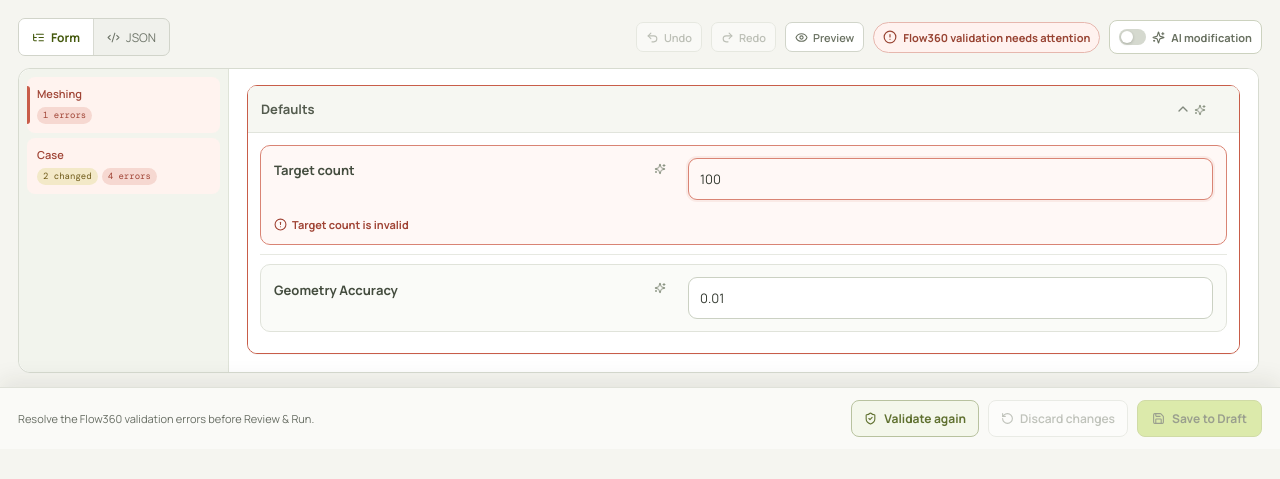
Scenario: Draft parameter validation navigation › keeps validation repair mutation-capable and marks the request autonomous
Click the checkbox labelled "AI modification".
click(1186, 37)  # box [1109, 20, 1262, 54]
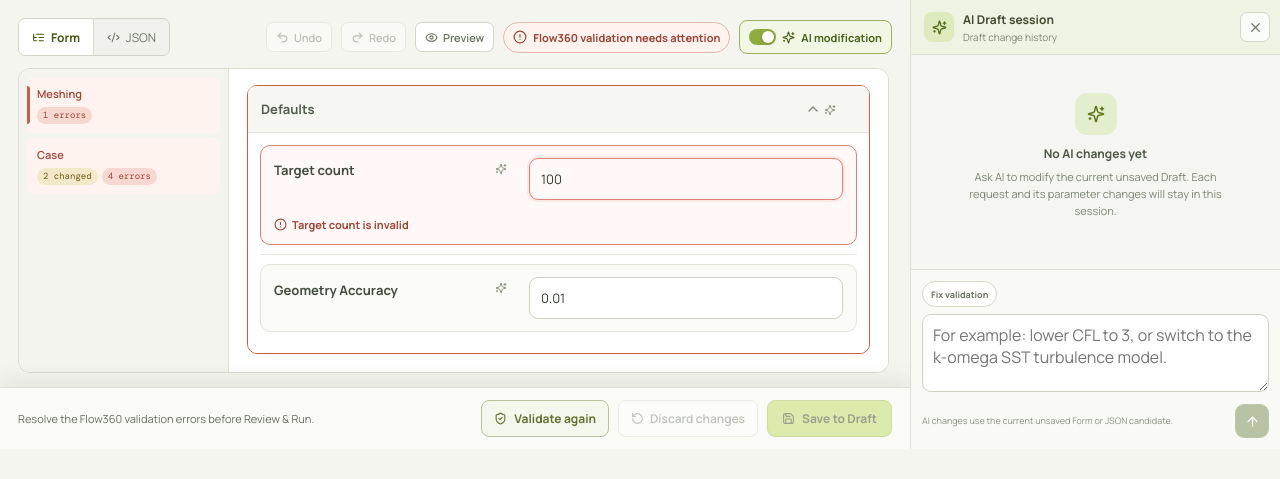
Click the button "Fix validation".
click(960, 294)  # box [922, 281, 997, 307]
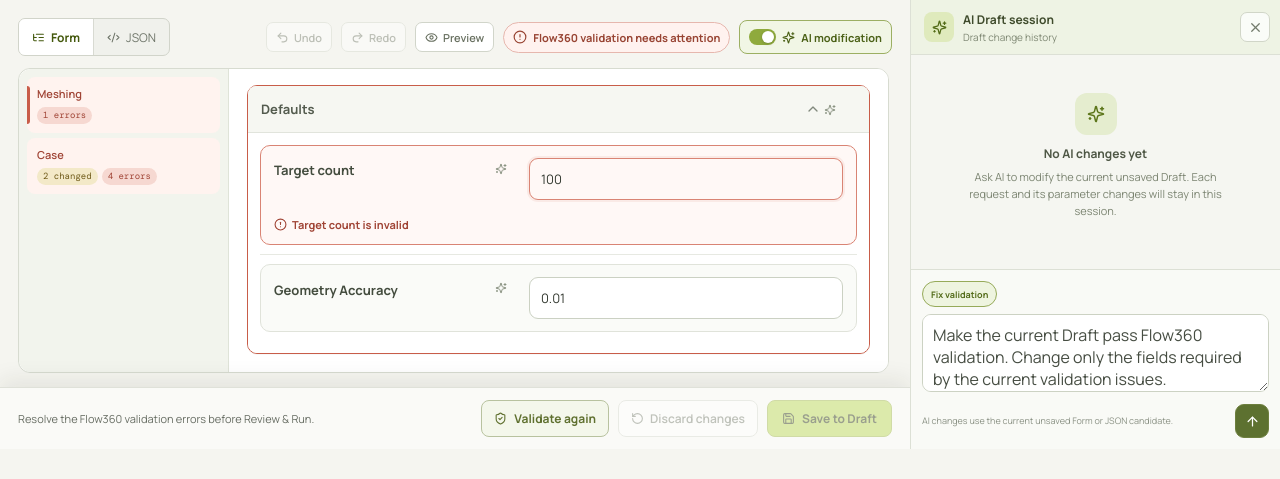
Submit the form with class "draft-ai-composer", box [911, 269, 1279, 449]
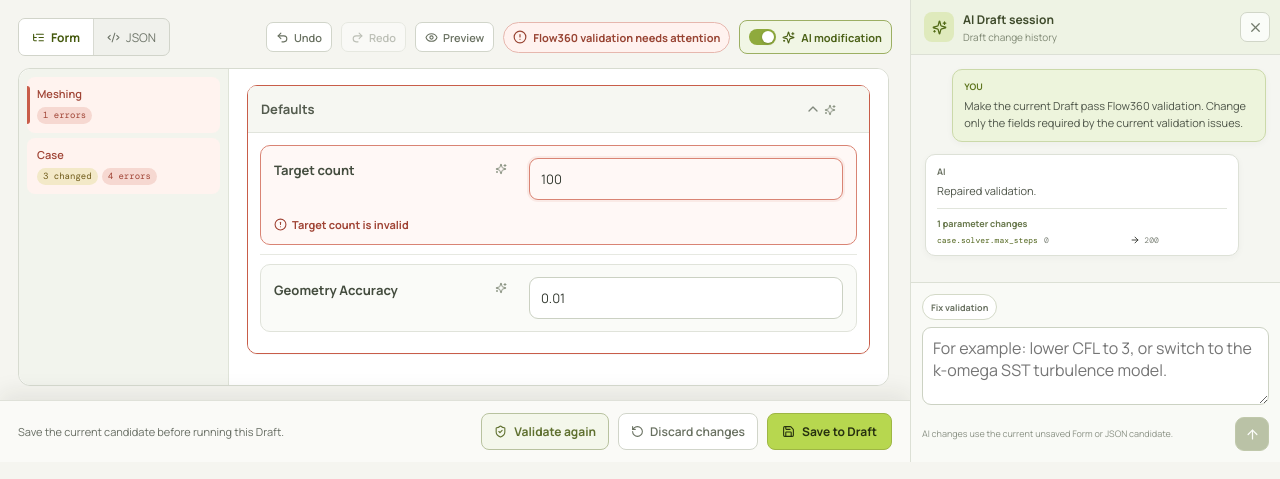
Result: the element with class "draft-ai-message-changes" shows "case.solver.max_steps" at [937, 235, 1038, 245]
Result: the button "Save to Draft" is enabled at [767, 413, 892, 450]
